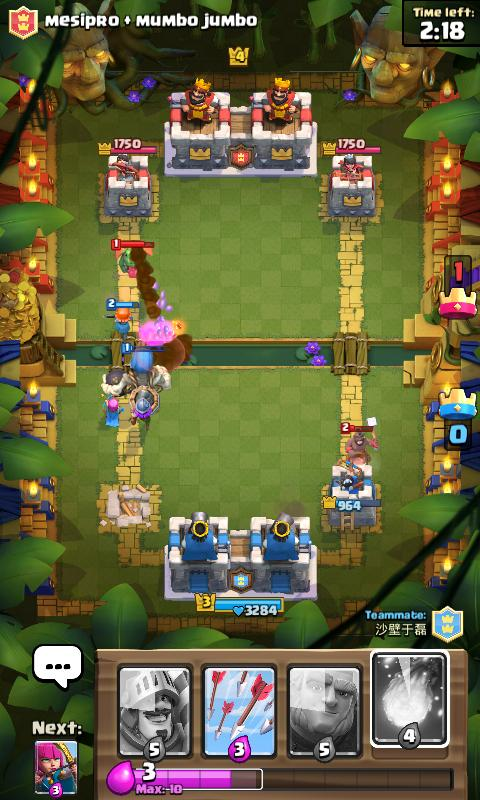ally_archer: (99, 391, 124, 427)
ally_giant_skeleton: (100, 341, 172, 395)
ally_musketeer: (128, 388, 151, 431)
ally_valkyrie: (102, 297, 139, 340)
enemy_baby_dragon: (108, 237, 153, 278)
enemy_hog_rider: (338, 415, 379, 465)
